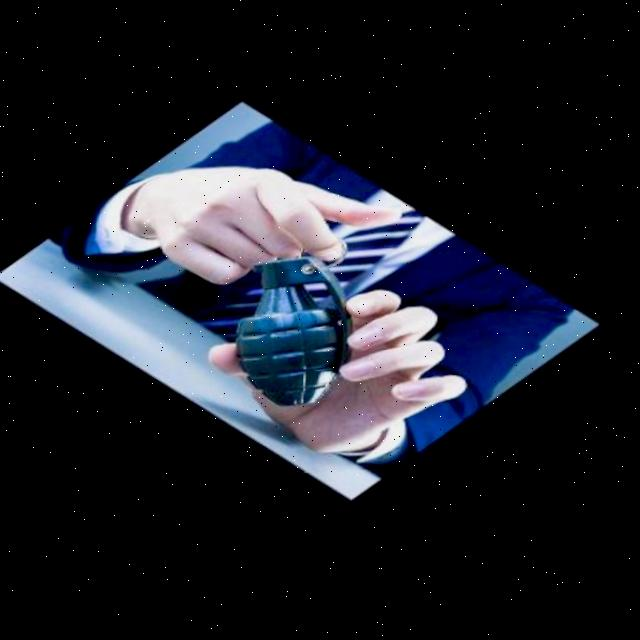grenade: (225, 242, 349, 423)
